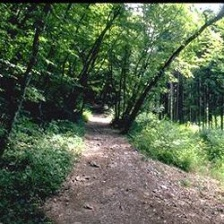neutral: (1, 3, 221, 224)
